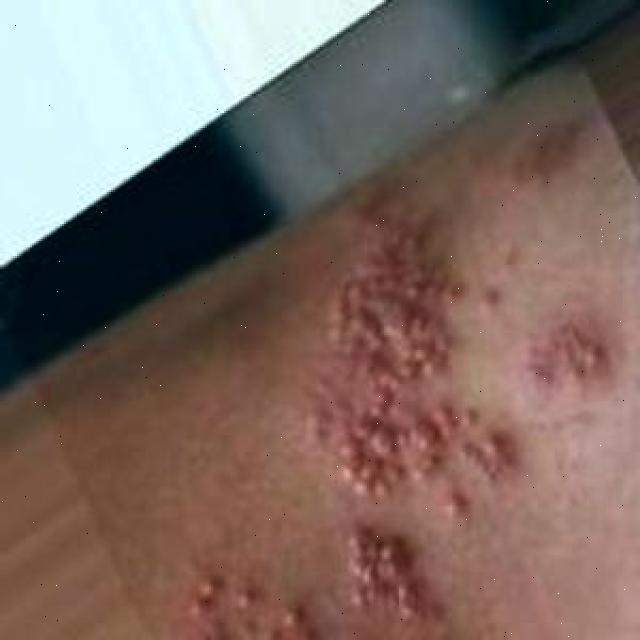Shingles: (330, 220, 510, 494), (341, 524, 433, 626), (185, 573, 316, 640)
